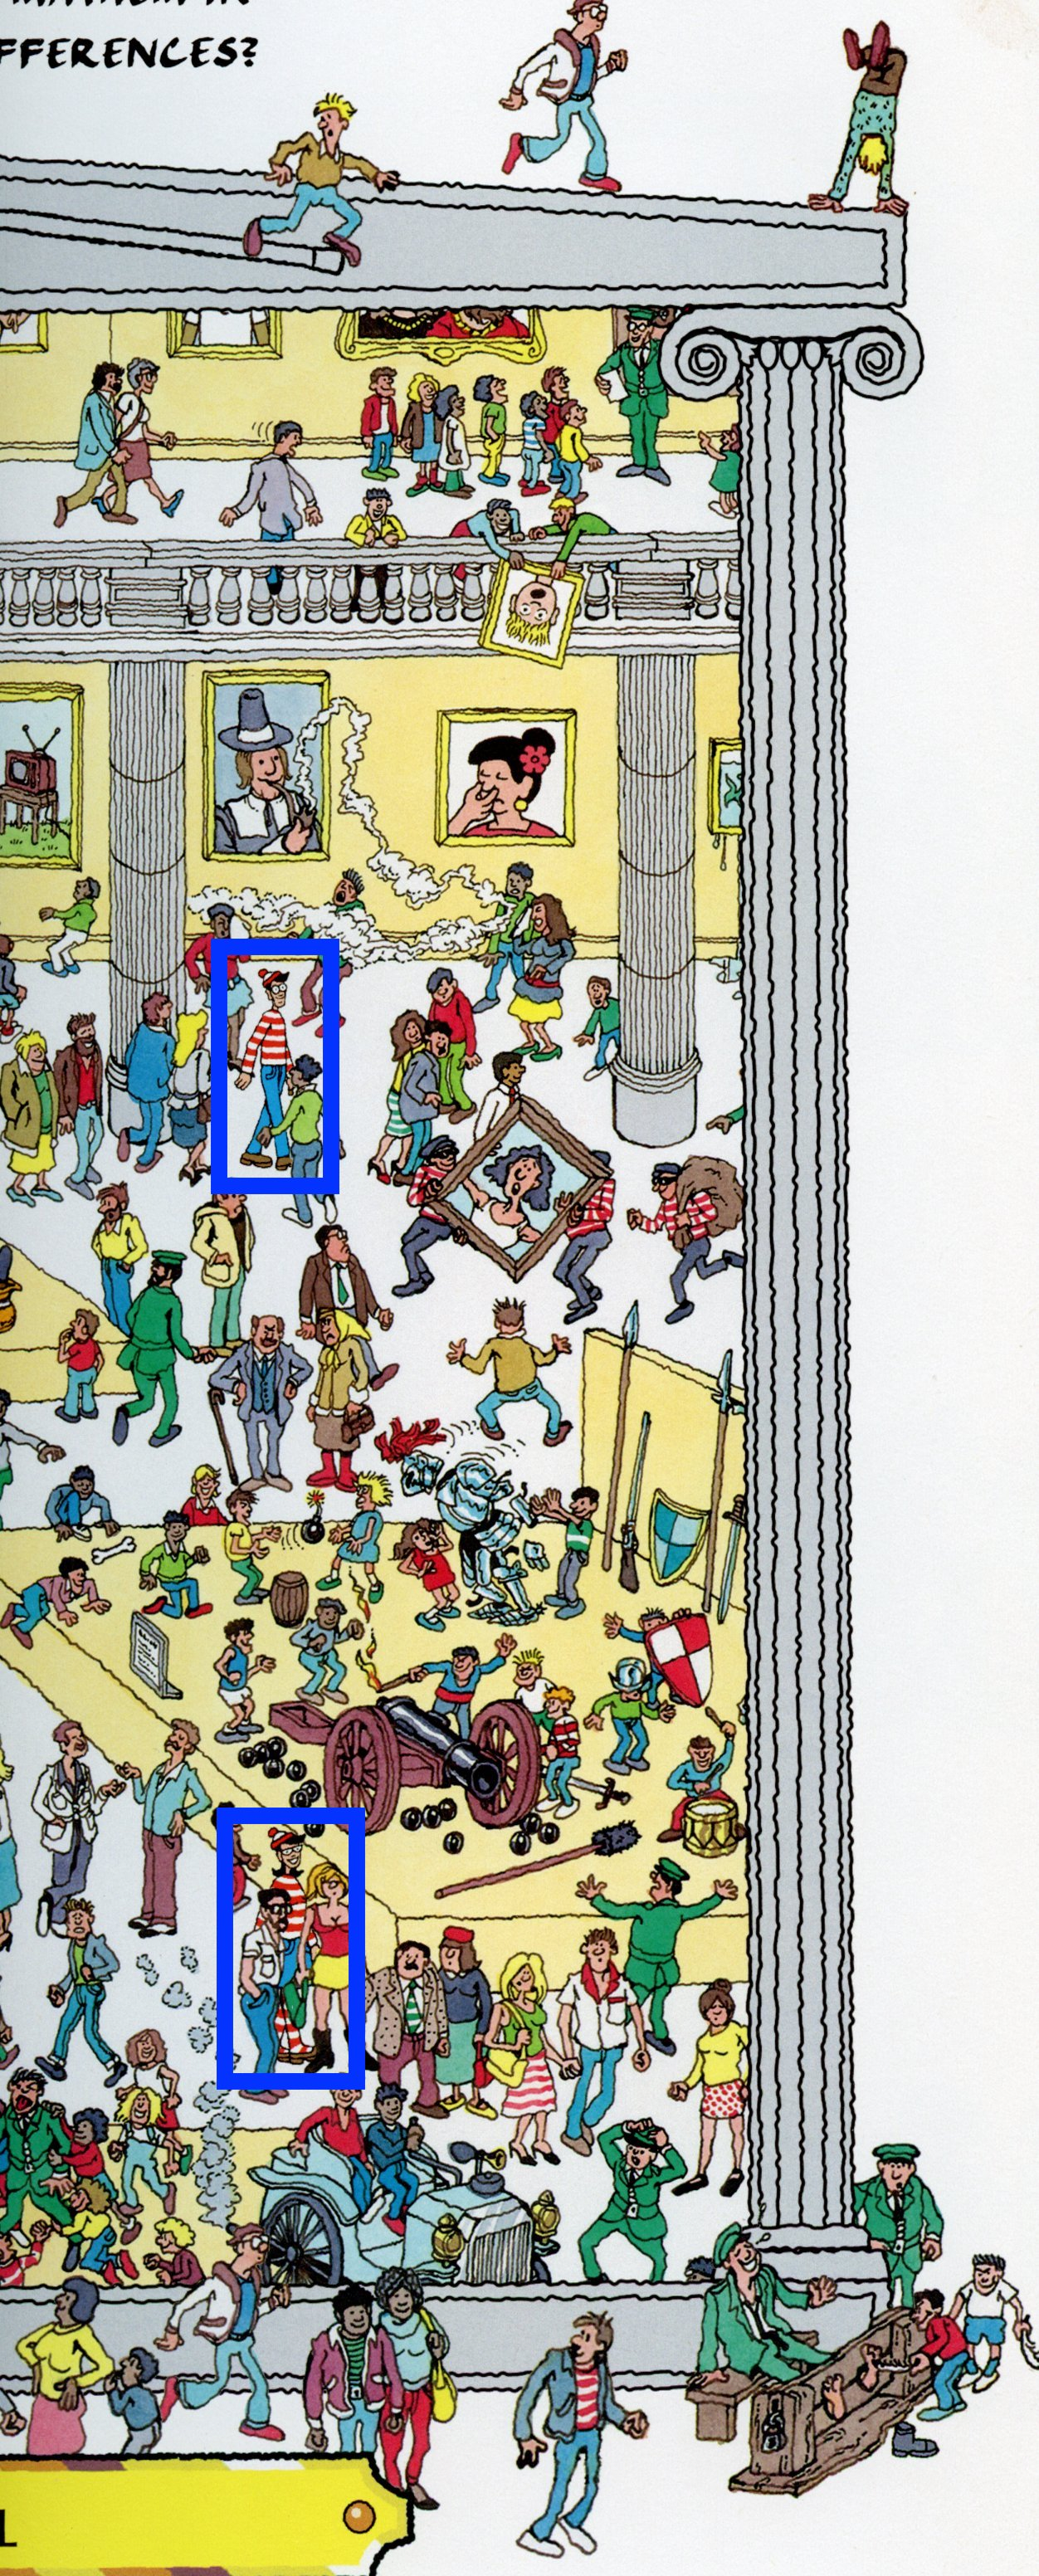waldo: (217, 935, 335, 1224)
